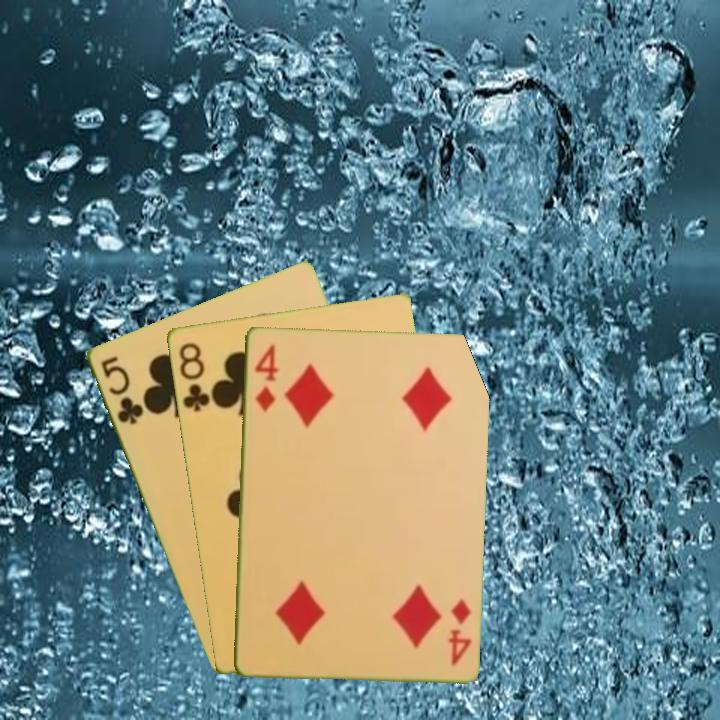4d: (250, 340, 281, 414), (444, 594, 474, 668)
5c: (96, 352, 146, 428)
8c: (175, 338, 213, 415)
